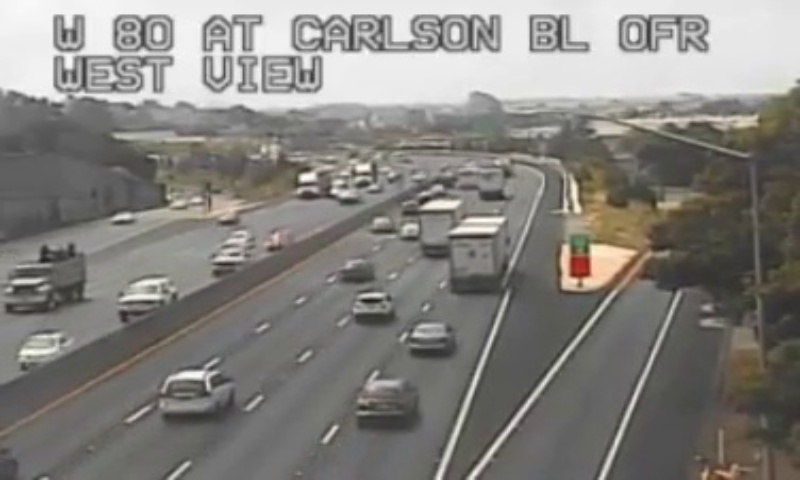car: (159, 369, 231, 415), (357, 380, 414, 416), (410, 323, 453, 350), (352, 292, 394, 317), (340, 258, 372, 281)
truck: (451, 216, 506, 286), (419, 198, 459, 252)
